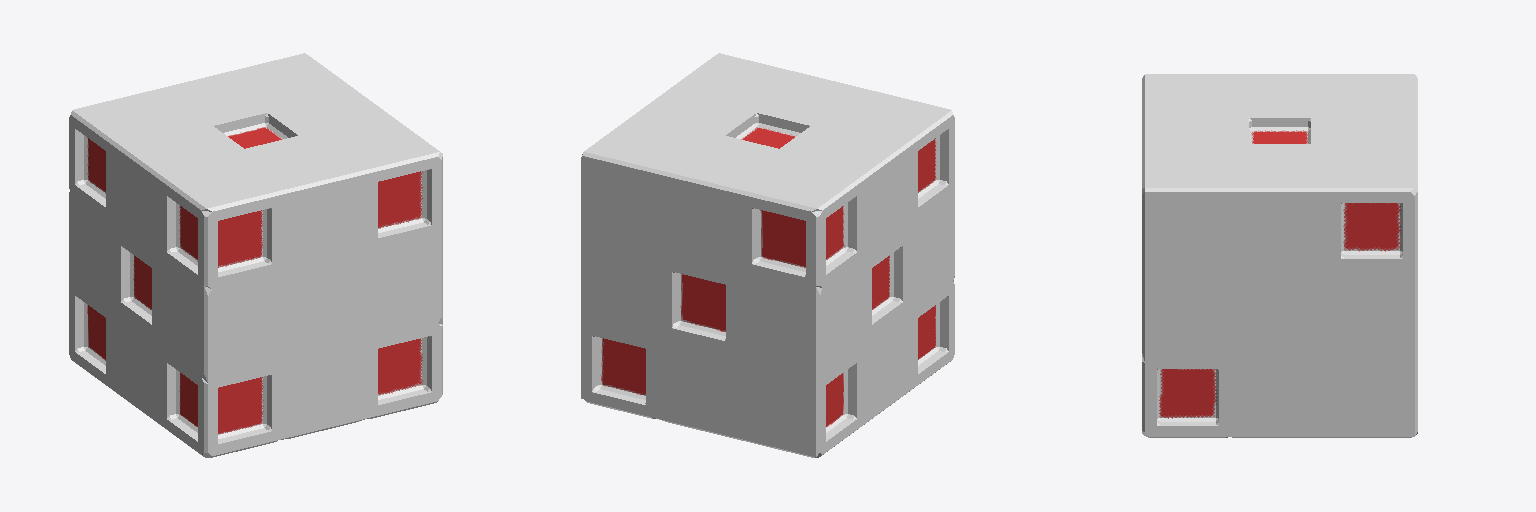
3 renders of one model, left to right at view 1: azimuth 30°, elevation 25°; view 2: azimuth 150°, elevation 25°; view 3: azimuth 270°, elevation 25°, orthographic.
Parts seen in each view (by area): view 1: Cube; view 2: Cube; view 3: Cube.
Boxes of the visible parts, x1,y1,x2,y2 form: Cube: [69, 53, 442, 457]; Cube: [581, 53, 954, 457]; Cube: [1142, 74, 1417, 437].
Bounding box in the file's own units: 2 × 2 × 2.
Materials: 1 (1 with a texture image).